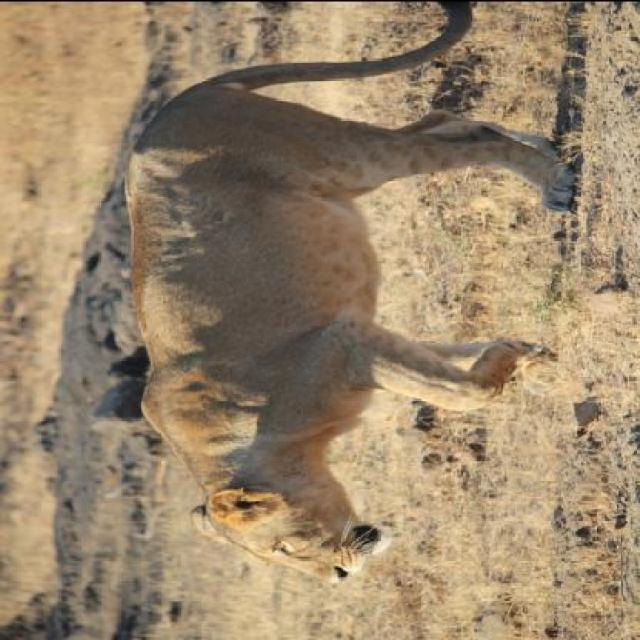Lion: (119, 1, 638, 608)
